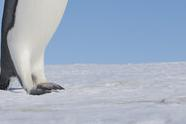Emperor Penguin: (0, 0, 96, 99)
